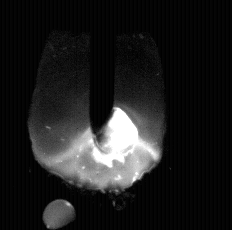arame: (89, 0, 115, 143)
poca: (28, 0, 166, 230)
